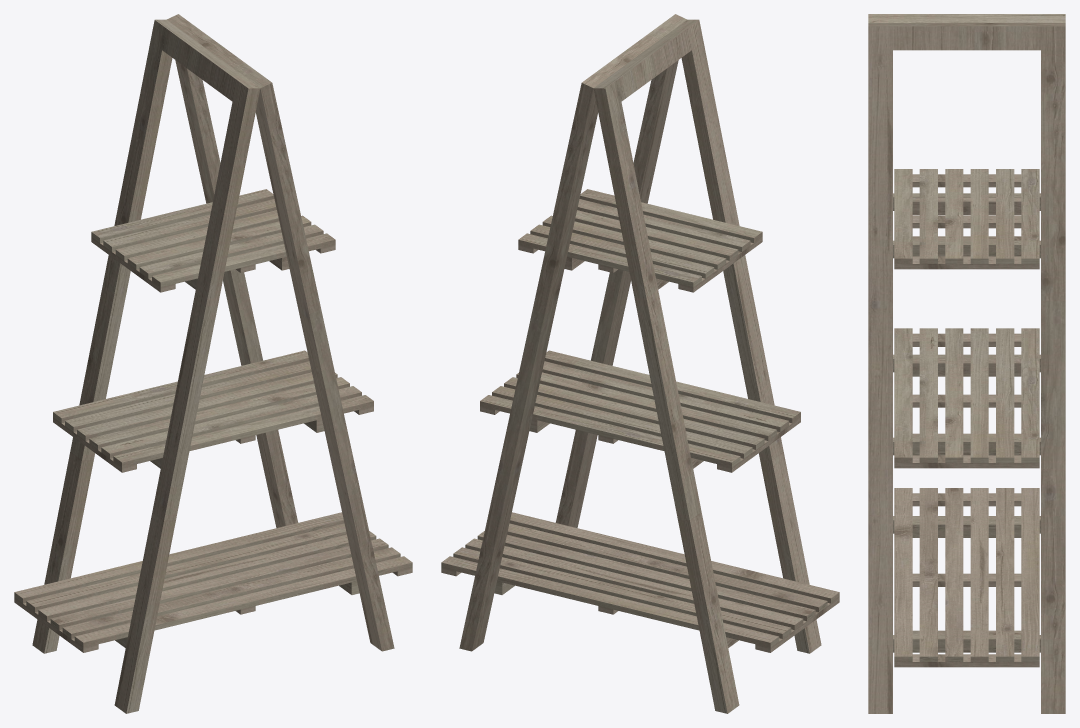
The model's file is mw-treeshelf_shabbygray.fbx.
3 renders of one model, left to right at view 1: azimuth 30°, elevation 25°; view 2: azimuth 150°, elevation 25°; view 3: azimuth 270°, elevation 25°, orthographic. The views are drawn at different scales.
Parts seen in each view (by area): view 1: mw-treeshelf_shabbygray; view 2: mw-treeshelf_shabbygray; view 3: mw-treeshelf_shabbygray.
Boxes of the visible parts, <box> form: mw-treeshelf_shabbygray: <box>14,14,412,713</box>; mw-treeshelf_shabbygray: <box>441,14,839,713</box>; mw-treeshelf_shabbygray: <box>868,14,1065,713</box>.
Size of the model in its own units: 81 by 140 by 40.
1 material, 1 textured.
